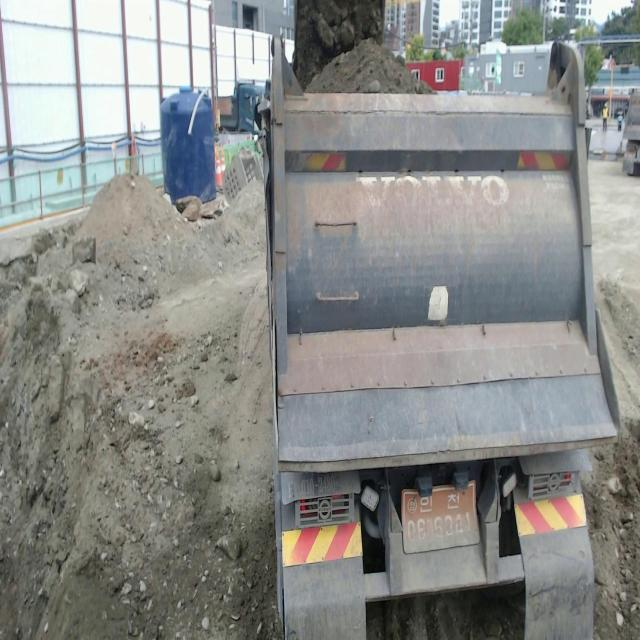red-sand: (0, 174, 282, 639), (582, 161, 640, 639), (293, 0, 431, 93), (367, 591, 524, 639)
